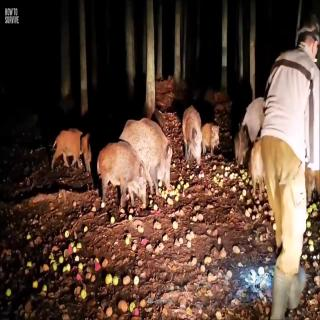Pig: (116, 106, 190, 195), (96, 132, 158, 238), (174, 90, 222, 186), (48, 113, 102, 179), (204, 109, 230, 175), (248, 134, 268, 196)
